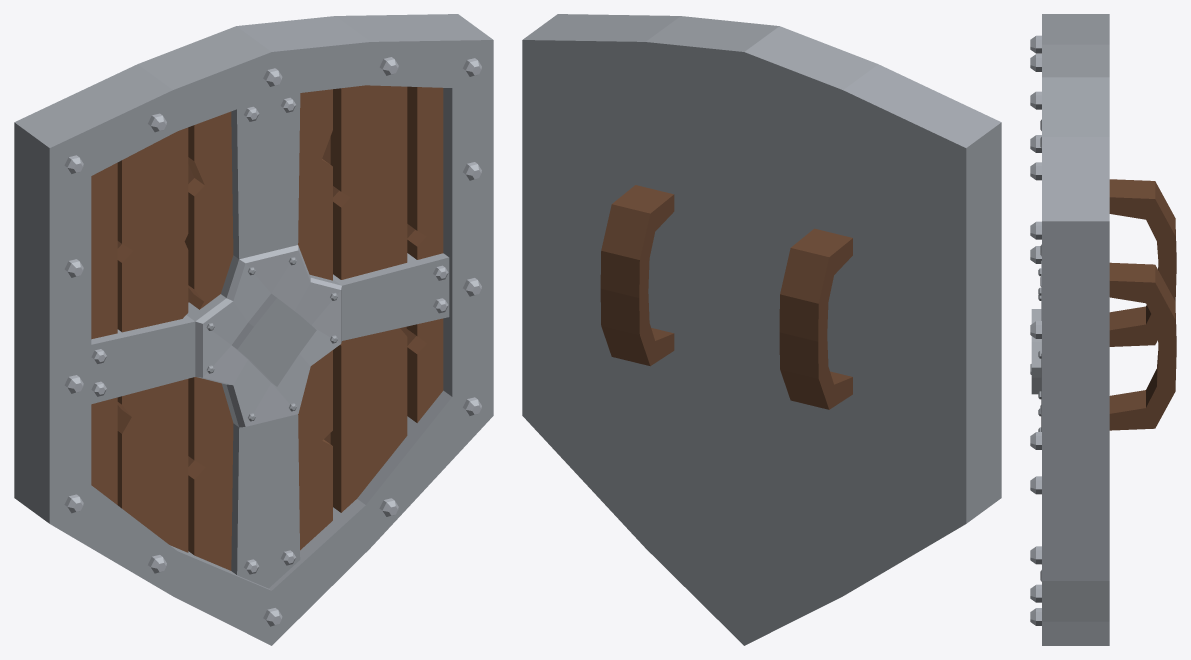
Rendered from shield_heater.glb.
3 views of the same model, side by side, from view 1: azimuth 30°, elevation 25°; view 2: azimuth 150°, elevation 25°; view 3: azimuth 270°, elevation 25° (orthographic). The views are drawn at different scales.
Parts seen in each view (by area): view 1: Shield_Heater; view 2: Shield_Heater; view 3: Shield_Heater.
Boxes of the visible parts, <box> form: Shield_Heater: <box>14,14,493,645</box>; Shield_Heater: <box>522,14,1001,645</box>; Shield_Heater: <box>1030,14,1176,645</box>.
Size of the model in its own units: 2.01 by 2.56 by 0.597.
